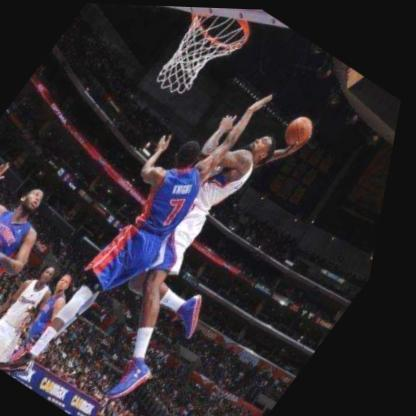basketball: (281, 108, 325, 150)
rim: (144, 5, 260, 108)
